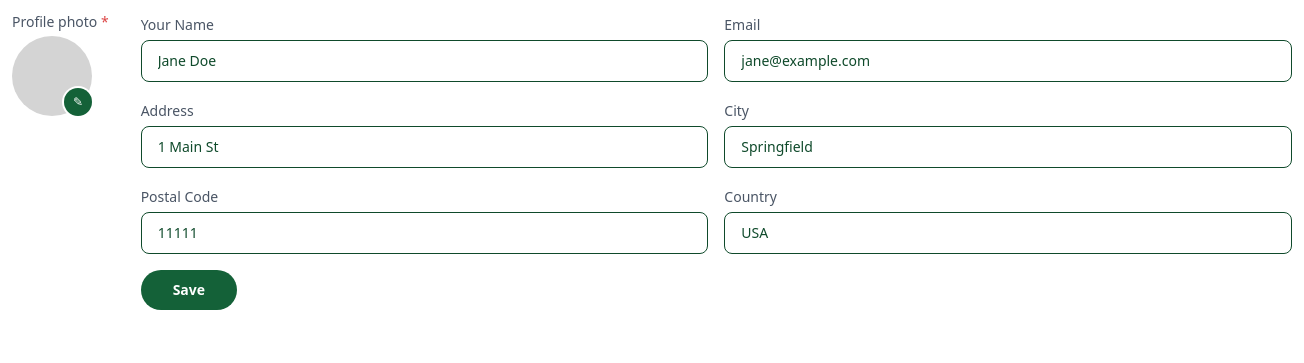
Scenario: ProfileForm › says plainly that it saved when nothing is missing
The width and height of the screenshot is (1304, 363).
What coordinates should you click on to do the following:
click the button "Save"
I would click on:
 (189, 290)
Its box is [141,270,237,310].
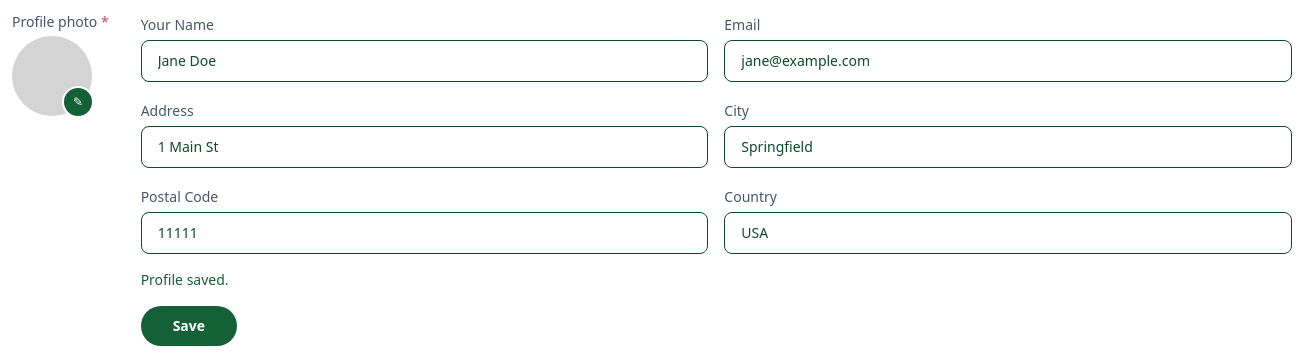
Expected: the text "Profile saved." is shown, [141,270,229,289]
